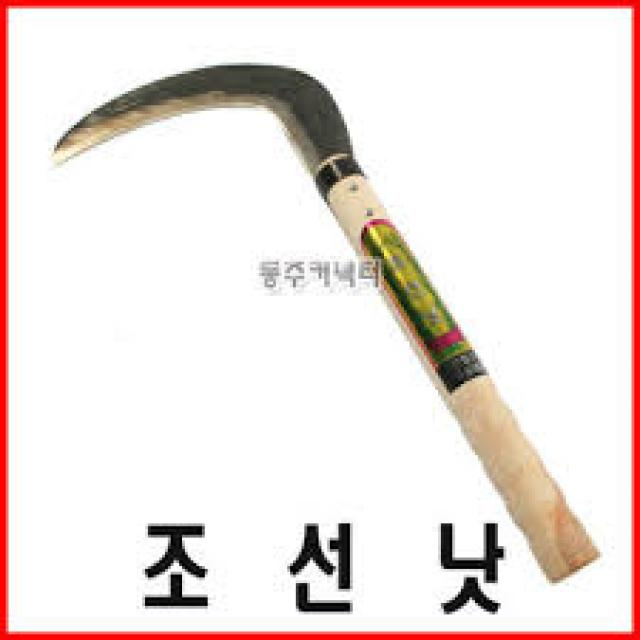sickle: (36, 44, 604, 596)
